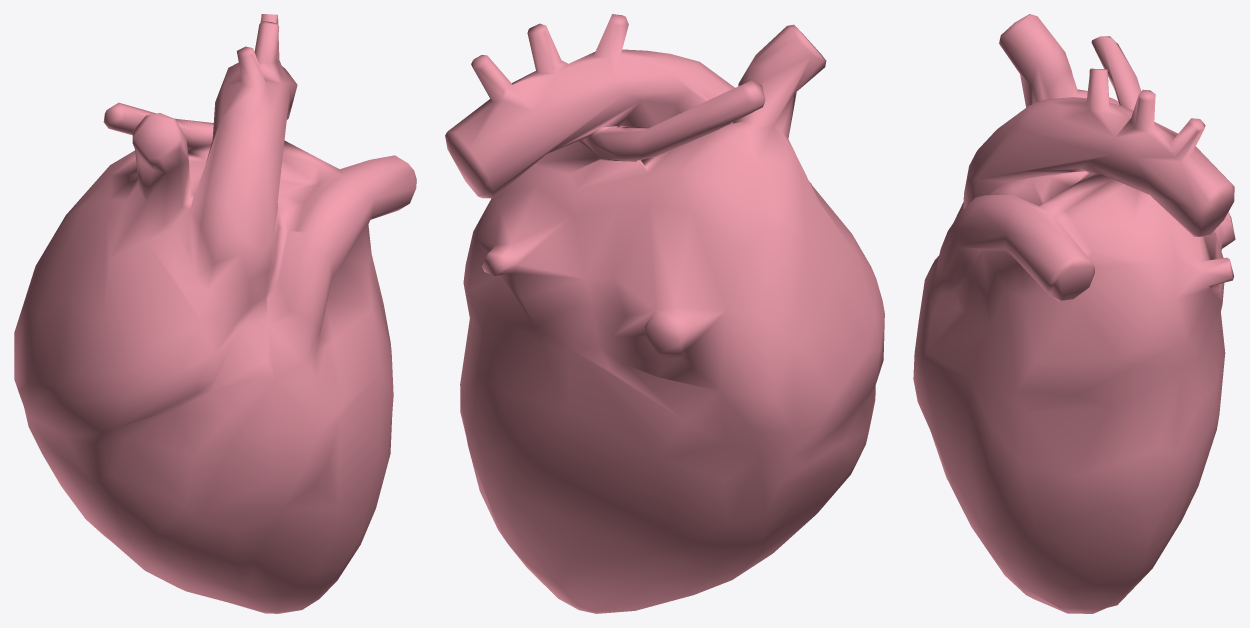
The model's file is heart-lowpoly.glb.
3 renders of one model, left to right at view 1: azimuth 30°, elevation 25°; view 2: azimuth 150°, elevation 25°; view 3: azimuth 270°, elevation 25°, orthographic. The views are drawn at different scales.
Parts seen in each view (by area): view 1: hart:ZBrush_defualt_group; view 2: hart:ZBrush_defualt_group; view 3: hart:ZBrush_defualt_group.
Boxes of the visible parts, x1,y1,x2,y2 form: hart:ZBrush_defualt_group: [14, 14, 416, 613]; hart:ZBrush_defualt_group: [445, 14, 884, 613]; hart:ZBrush_defualt_group: [913, 14, 1235, 613].
Bounding box in the file's own units: 6.2 × 9.19 × 5.03.
